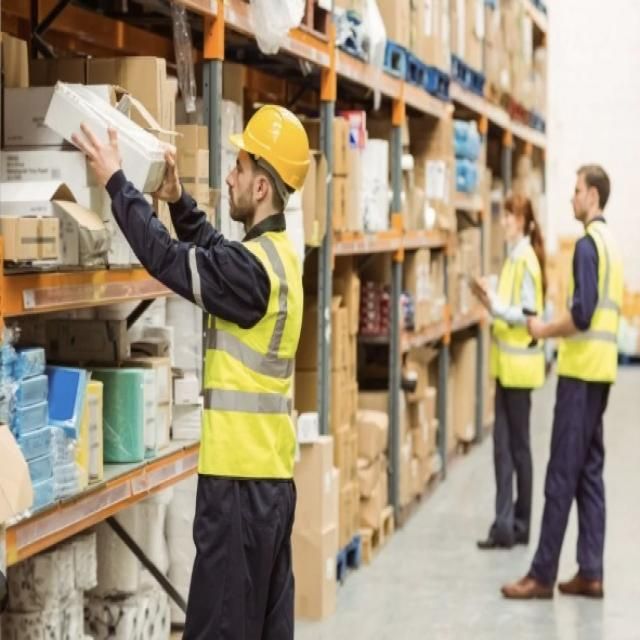boots: (519, 525, 628, 609)
helmet: (217, 84, 309, 206)
no-gloves: (53, 115, 128, 220), (149, 134, 197, 213)
no-helmet: (562, 150, 618, 213), (497, 185, 545, 238)
person: (51, 67, 316, 640), (514, 145, 638, 622), (473, 166, 547, 558)
vest: (205, 222, 308, 500), (562, 220, 634, 400)
